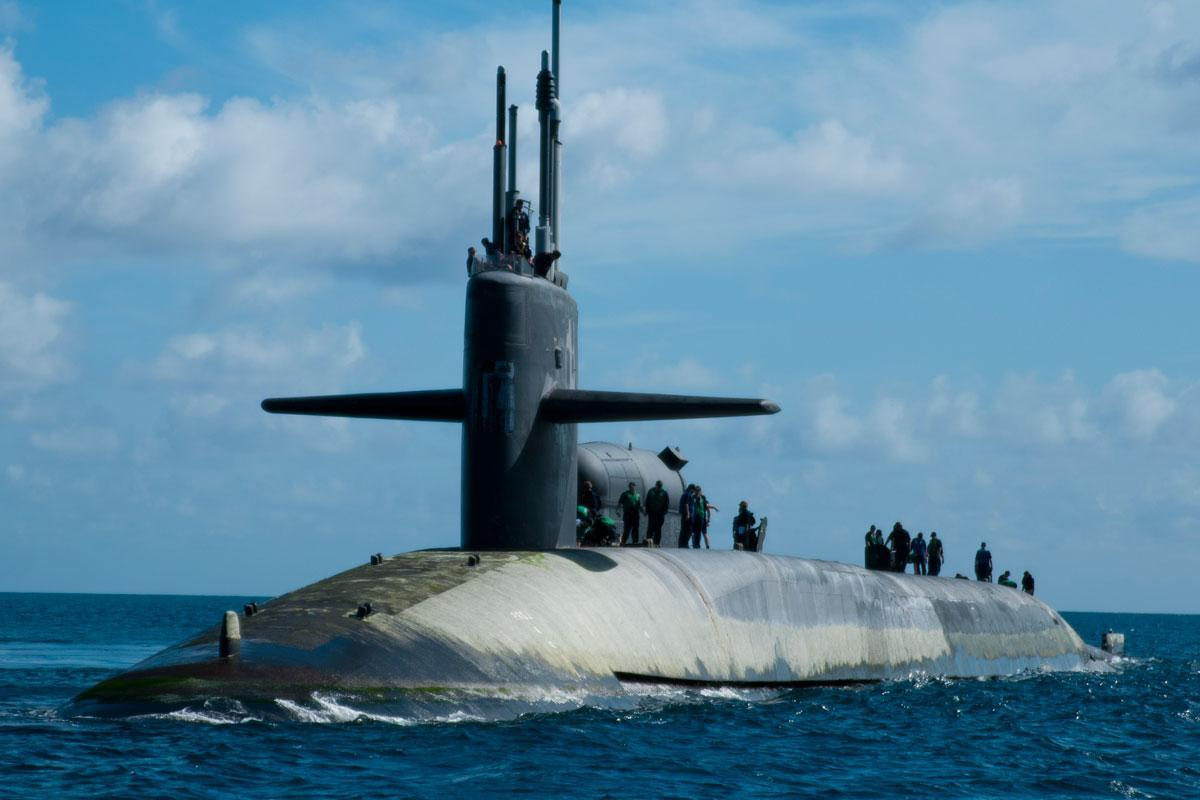Submarine: (40, 10, 1200, 800)
